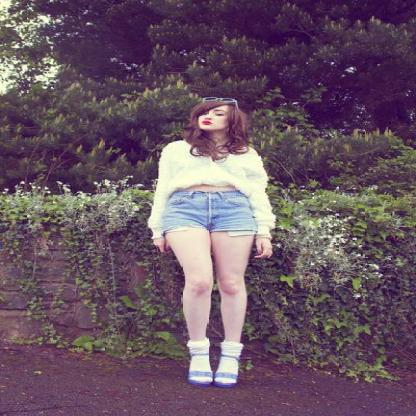shirt: (148, 141, 276, 238)
shoe: (179, 355, 240, 400)
shorts: (162, 194, 257, 236)
